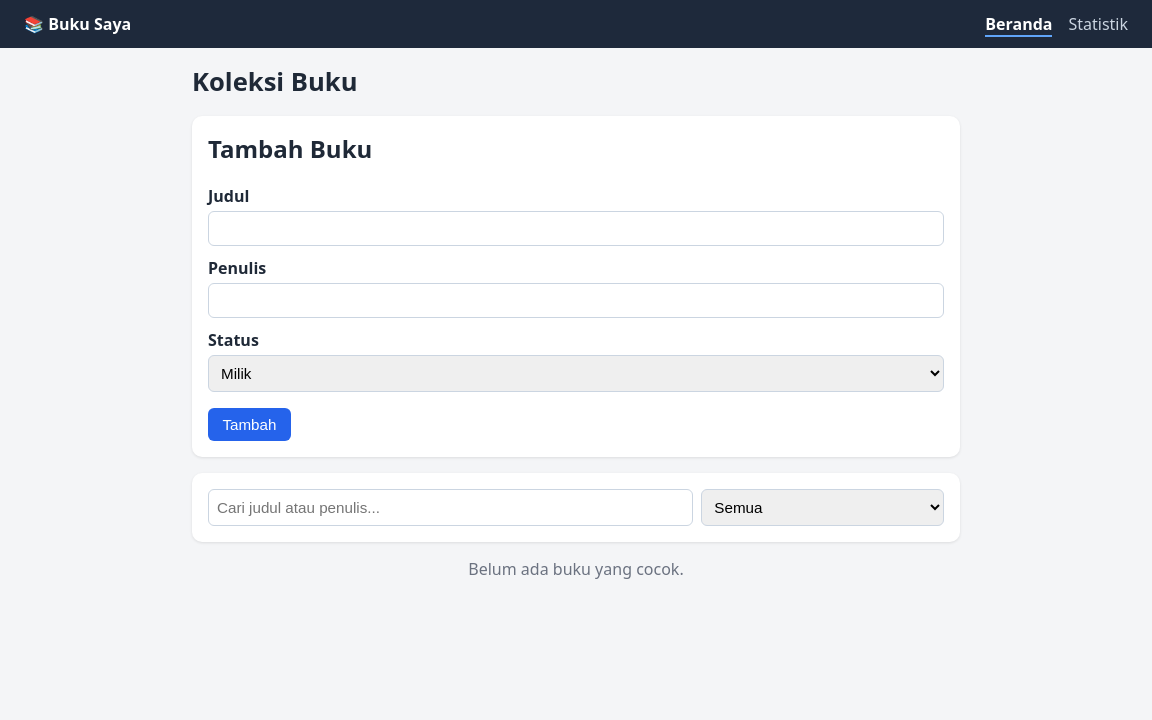
Scenario: Integrasi aplikasi › halaman statistik menampilkan total buku
Type "Bumi" into the field labelled "Judul".
click(576, 228); type("Bumi")  # box [208,211,944,246]
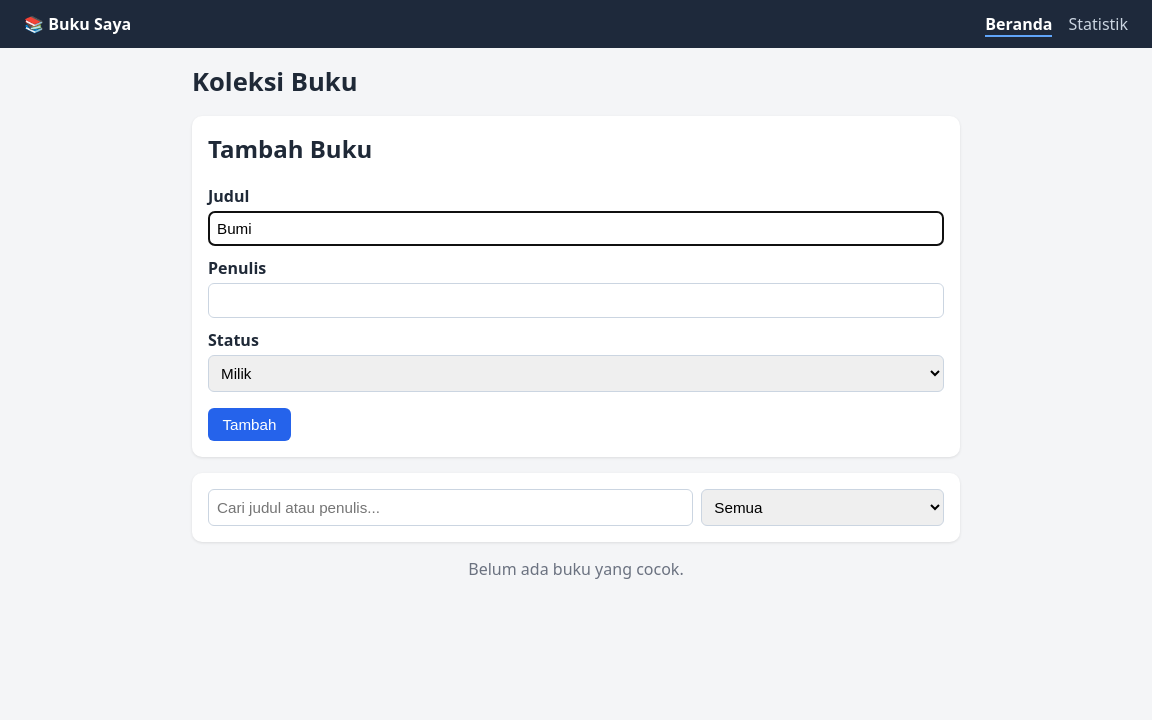
Type "Tere Liye" into the field labelled "Penulis".
click(576, 300); type("Tere Liye")  # box [208,283,944,318]
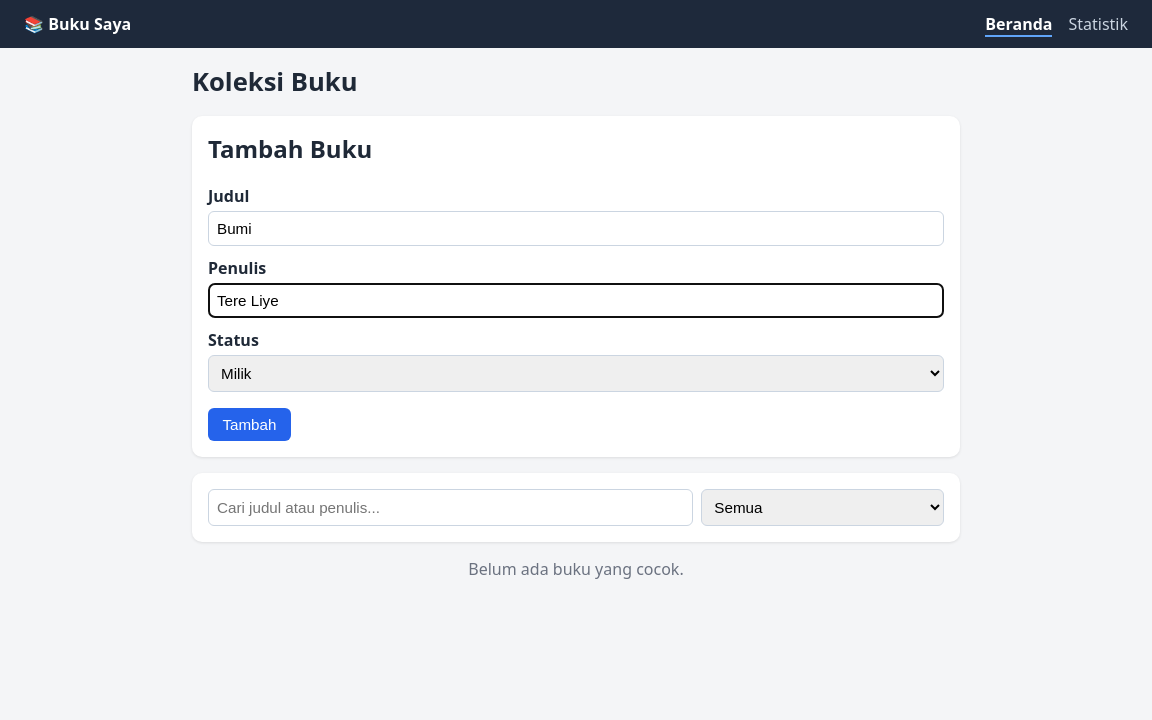
Click the button "Tambah".
click(249, 424)  # box [208,408,291,441]
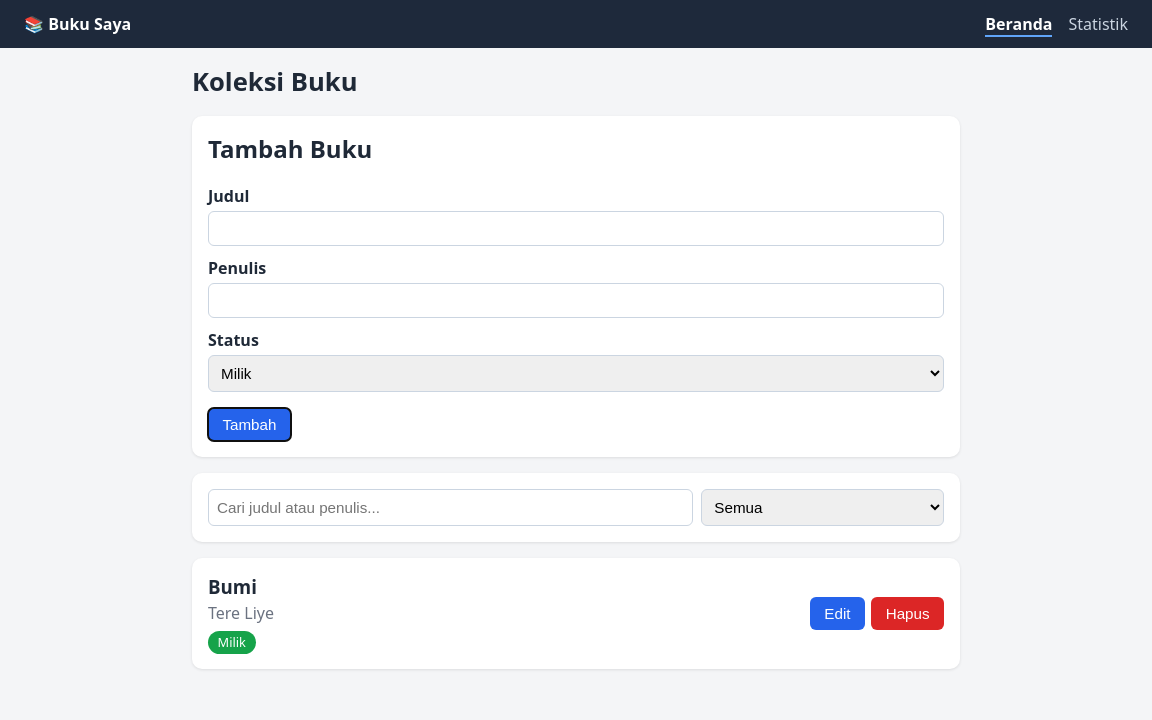
Click the link "Statistik".
click(1098, 24)  # box [1068,13,1128,35]
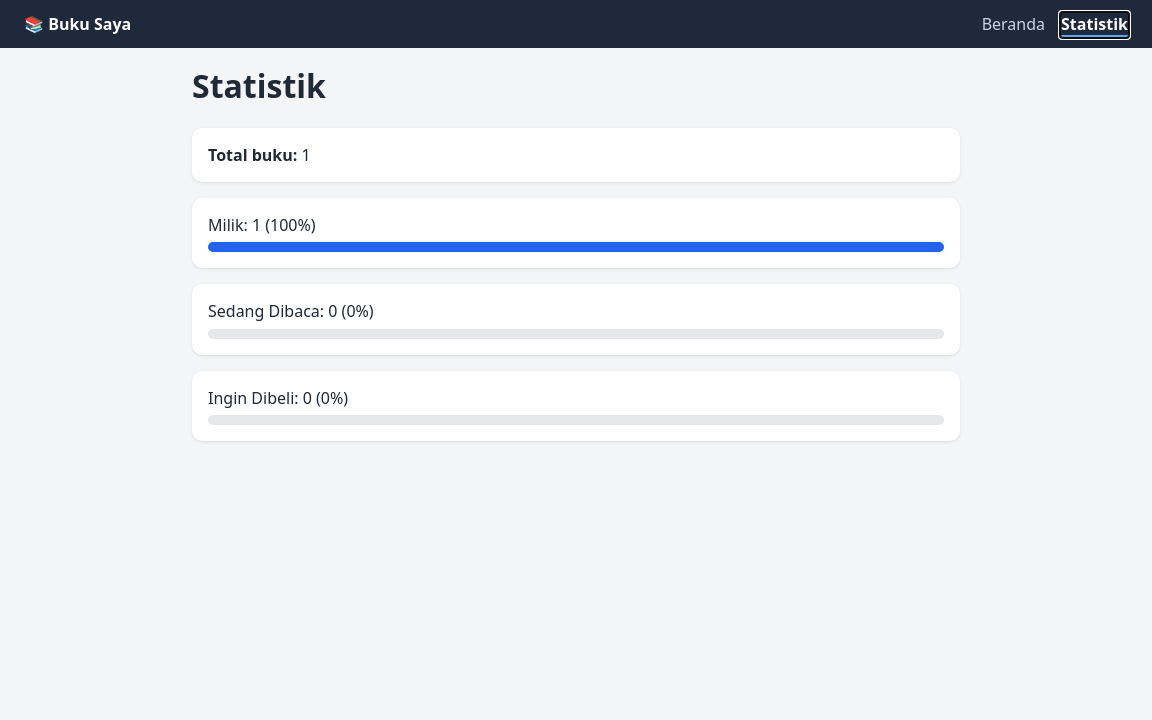
Expected: the text with test id "total" reads "1", [302,144,311,166]
